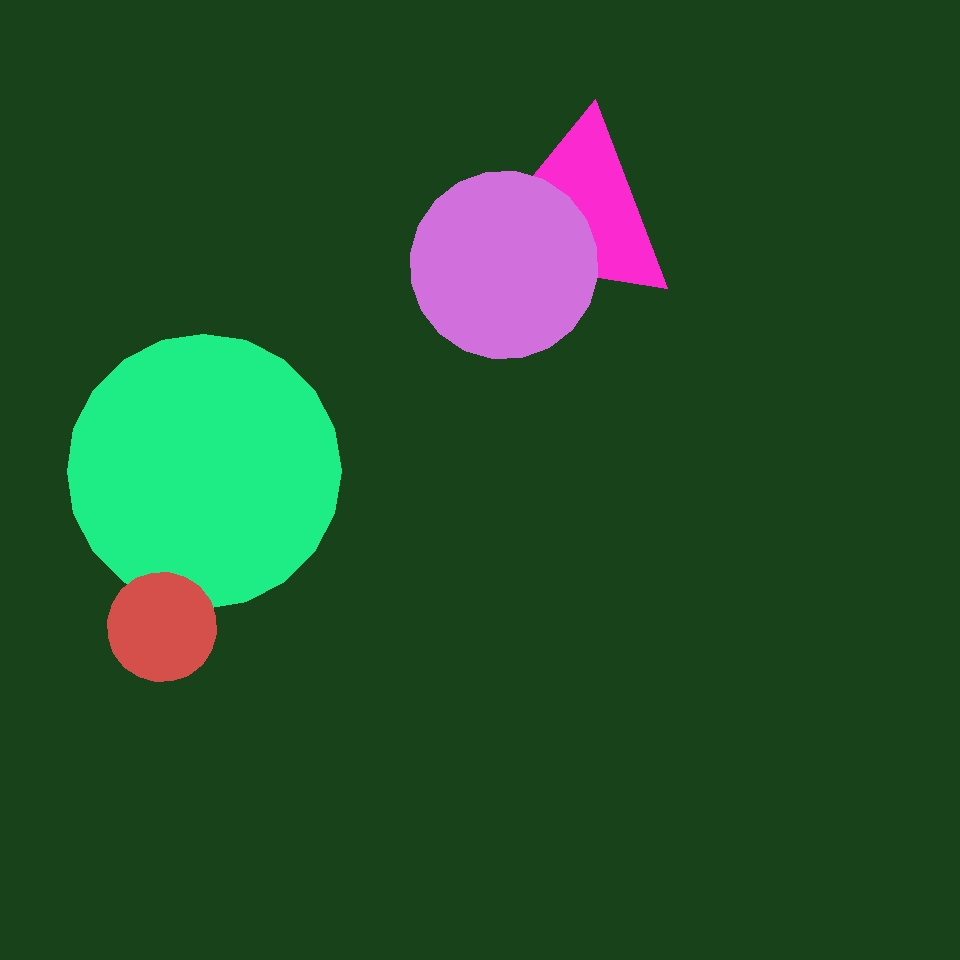circle: (72, 483, 370, 804), (479, 471, 742, 734), (588, 108, 828, 383), (477, 121, 677, 310)
triangle: (631, 373, 944, 686), (67, 334, 341, 608), (679, 679, 880, 880), (410, 172, 598, 359), (283, 164, 427, 308), (108, 572, 216, 682)
